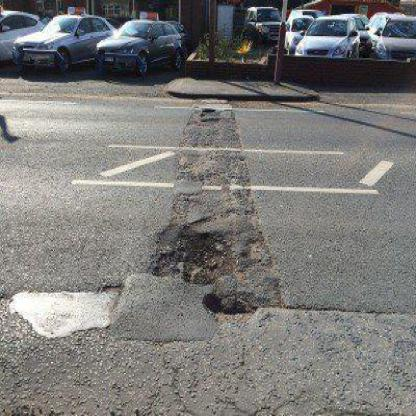pothole: (148, 219, 242, 283), (201, 290, 258, 320), (198, 106, 219, 127)
